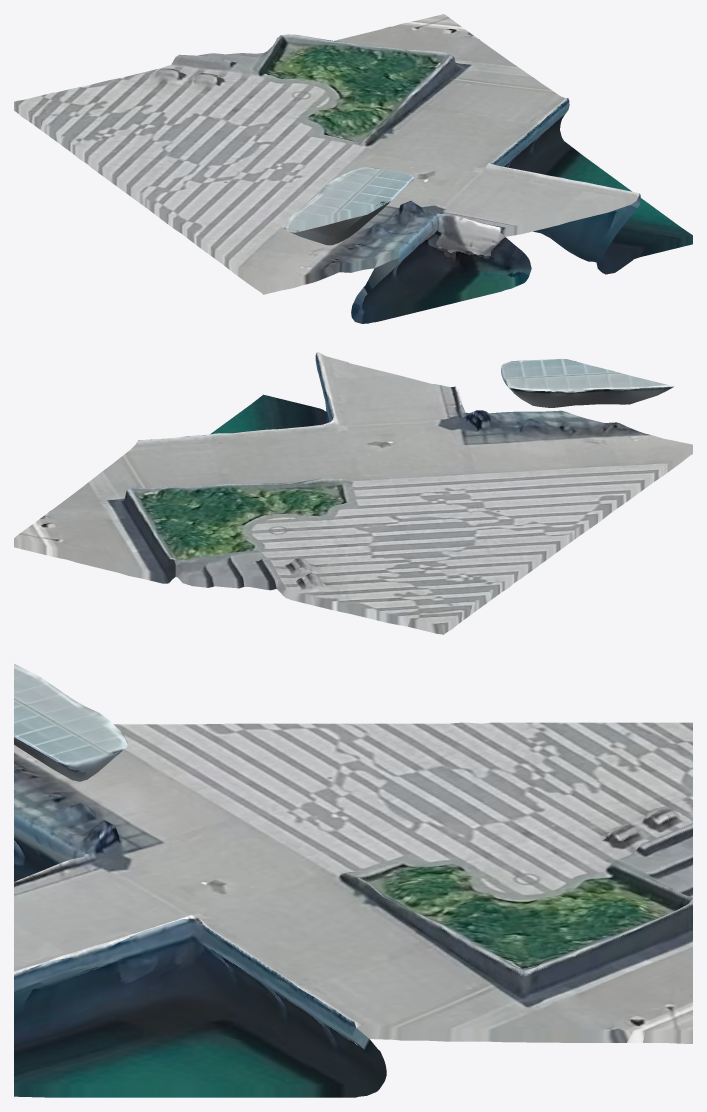
Rendered from z20-167794-405223-h0-yup-uvflip-v3-world.glb.
3 views of the same model, one above another, from view 1: azimuth 30°, elevation 25°; view 2: azimuth 150°, elevation 25°; view 3: azimuth 270°, elevation 25° (orthographic). The views are drawn at different scales.
Size of the model in its own units: 30.16 by 8.6 by 30.32.
Materials: 1 (1 with a texture image).
